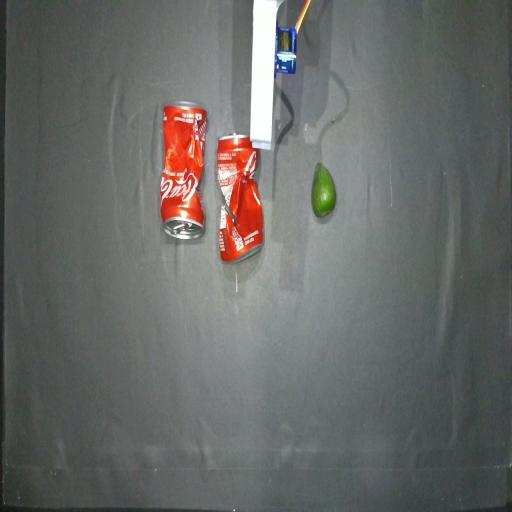higo: (312, 163, 336, 217)
lata_defectuoso: (161, 101, 207, 239), (217, 133, 264, 262)
